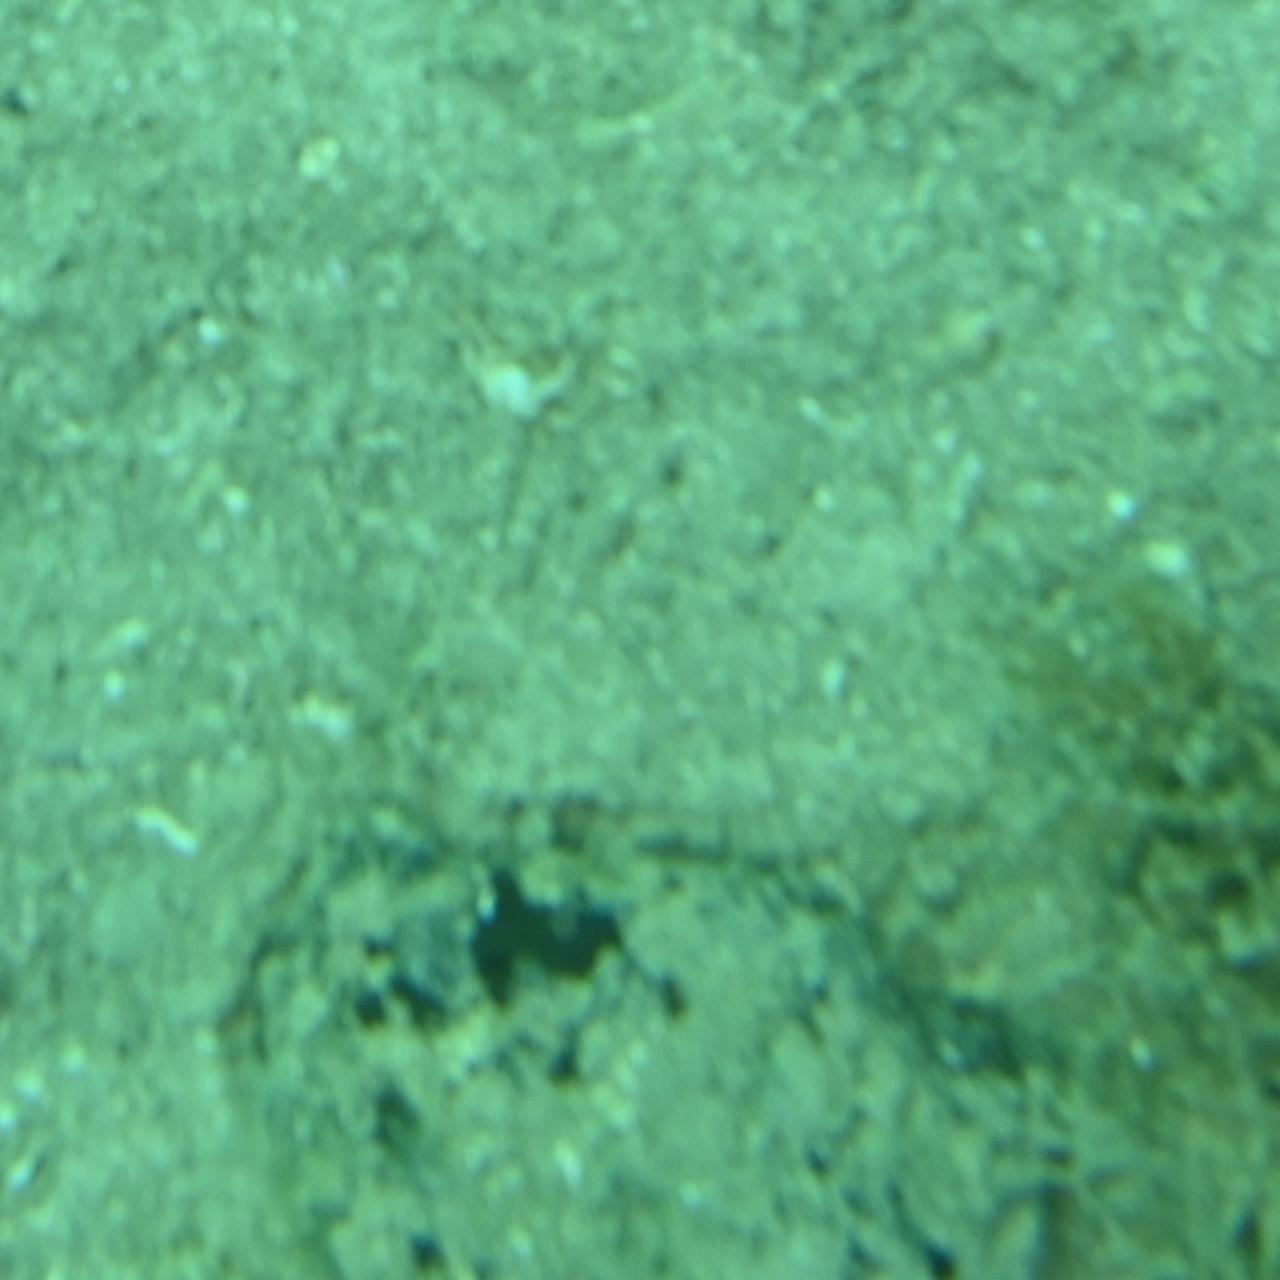Keratosa -cfr Sarcotragus-: (227, 789, 1053, 1279)
